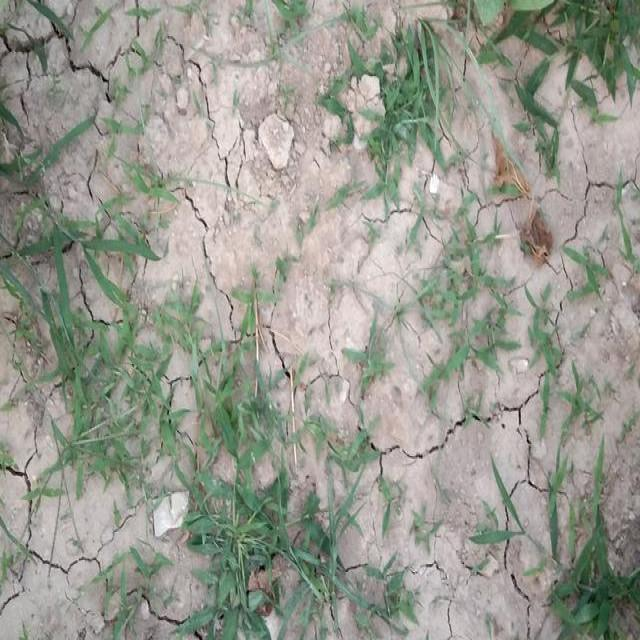weed: (5, 105, 144, 322), (488, 455, 640, 640), (34, 338, 216, 487), (204, 314, 314, 502), (354, 26, 462, 205), (330, 439, 422, 635), (528, 282, 620, 459), (175, 495, 307, 603), (439, 230, 515, 390), (352, 330, 398, 392)
